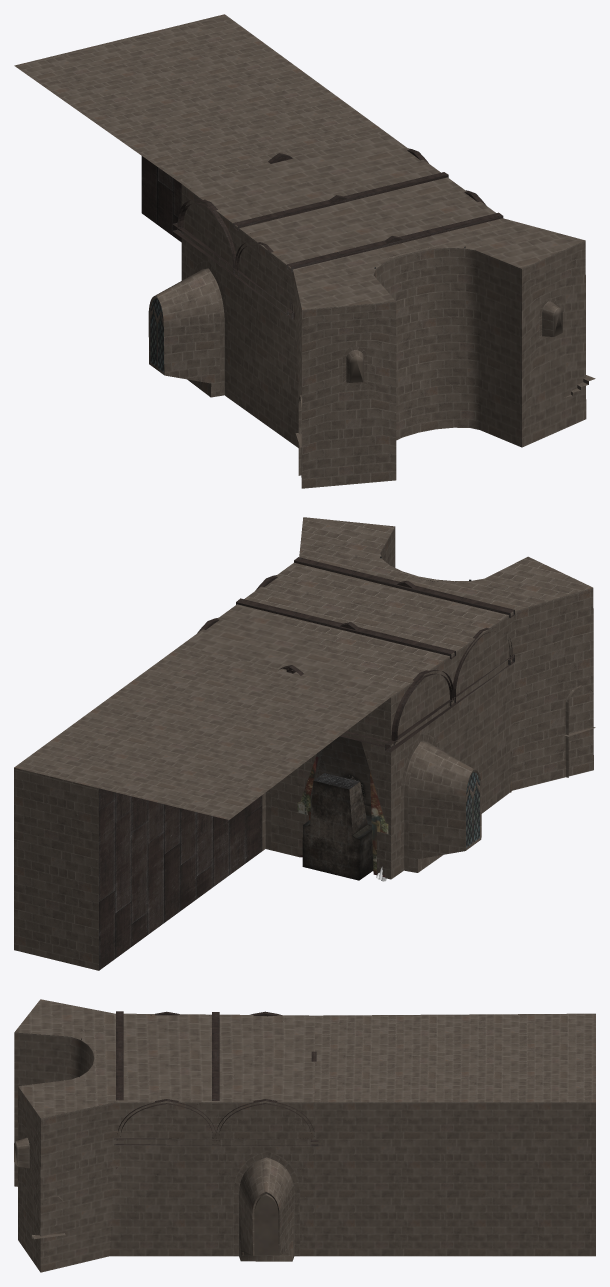
The model's file is Profile.glb.
3 views of the same model, one above another, from view 1: azimuth 30°, elevation 25°; view 2: azimuth 150°, elevation 25°; view 3: azimuth 270°, elevation 25° (orthographic). The views are drawn at different scales.
Parts seen in each view (by area): view 1: walls_mesh_pk_gryffindorcommonroom_brick_mat_0, supportbeams_mesh_pk_gryffindorcommonroom_woodplanks_mat_0, woodfloor_mesh_pk_gryffindorcommonroom_woodplanks_mat_0, windows_mesh_pk_gryffindorcommonroom_windows_0; view 2: walls_mesh_pk_gryffindorcommonroom_brick_mat_0, woodfloor_mesh_pk_gryffindorcommonroom_woodplanks_mat_0, fireplace_mesh_pk_gryffindorcommonroom_atlas_02_unlit_mat #2, supportbeams_mesh_pk_gryffindorcommonroom_woodplanks_mat_0, tapestries_mesh_pk_gryffindorcommonroom_tapestries_mat_0, windows_mesh_pk_gryffindorcommonroom_windows_0; view 3: walls_mesh_pk_gryffindorcommonroom_brick_mat_0, supportbeams_mesh_pk_gryffindorcommonroom_woodplanks_mat_0.
Boxes of the visible parts, box(x1,y1,x2,y2) form: walls_mesh_pk_gryffindorcommonroom_brick_mat_0: box(14, 14, 595, 488); supportbeams_mesh_pk_gryffindorcommonroom_woodplanks_mat_0: box(173, 148, 503, 319); woodfloor_mesh_pk_gryffindorcommonroom_woodplanks_mat_0: box(141, 156, 181, 242); windows_mesh_pk_gryffindorcommonroom_windows_0: box(150, 298, 164, 372); walls_mesh_pk_gryffindorcommonroom_brick_mat_0: box(14, 517, 595, 970); woodfloor_mesh_pk_gryffindorcommonroom_woodplanks_mat_0: box(99, 788, 262, 970); fireplace_mesh_pk_gryffindorcommonroom_atlas_02_unlit_mat #2: box(297, 736, 387, 880); supportbeams_mesh_pk_gryffindorcommonroom_woodplanks_mat_0: box(197, 557, 514, 752); tapestries_mesh_pk_gryffindorcommonroom_tapestries_mat_0: box(297, 756, 388, 877); windows_mesh_pk_gryffindorcommonroom_windows_0: box(466, 772, 480, 847); walls_mesh_pk_gryffindorcommonroom_brick_mat_0: box(14, 999, 595, 1272); supportbeams_mesh_pk_gryffindorcommonroom_woodplanks_mat_0: box(114, 1011, 322, 1146).
Size of the model in its own units: 0.1627 by 0.0945 by 0.3024.
52 materials, 31 textured.
